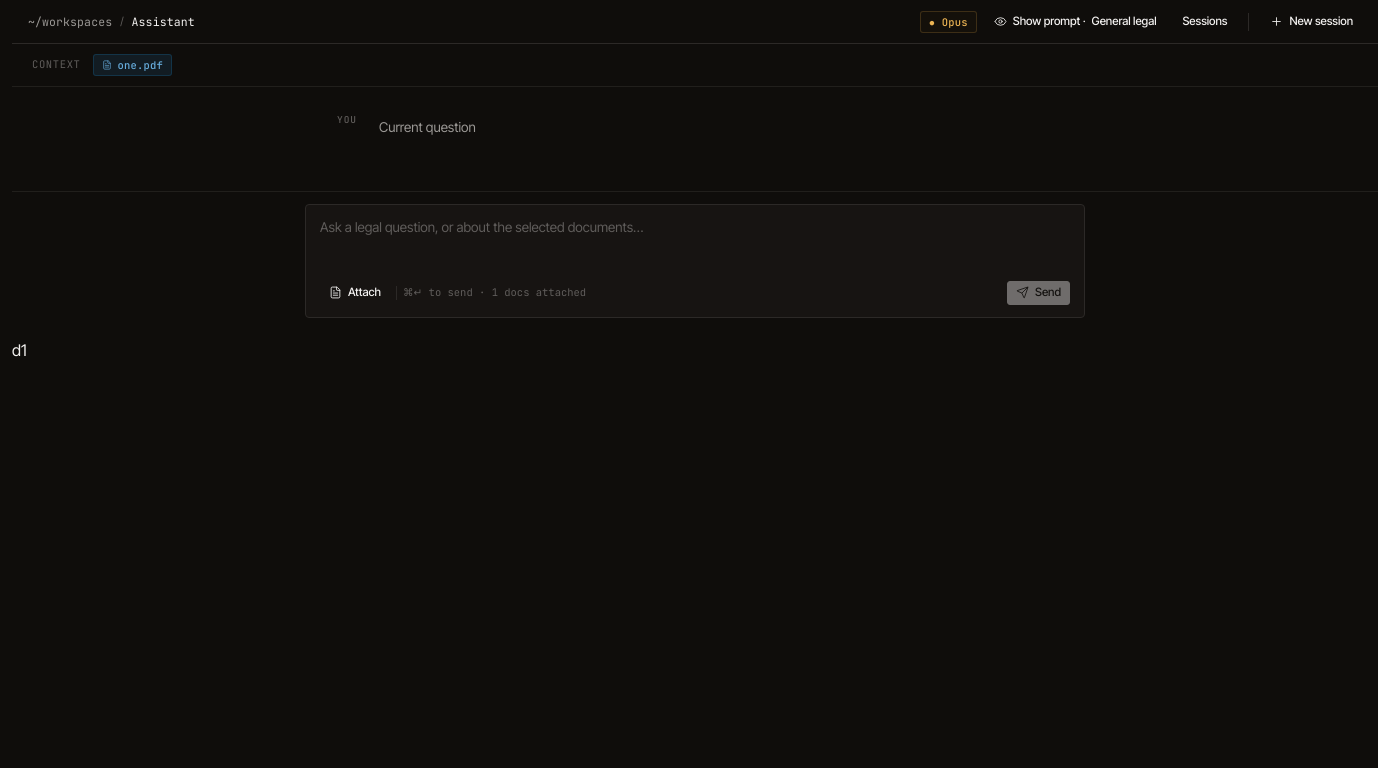
it: Assistant session management › keeps messages, draft, and selection on a failed switch and shows the error
The width and height of the screenshot is (1378, 768).
Type "Keep this" into the text box.
click(695, 243); type("Keep this")  # box 320,217 -> 1070,269
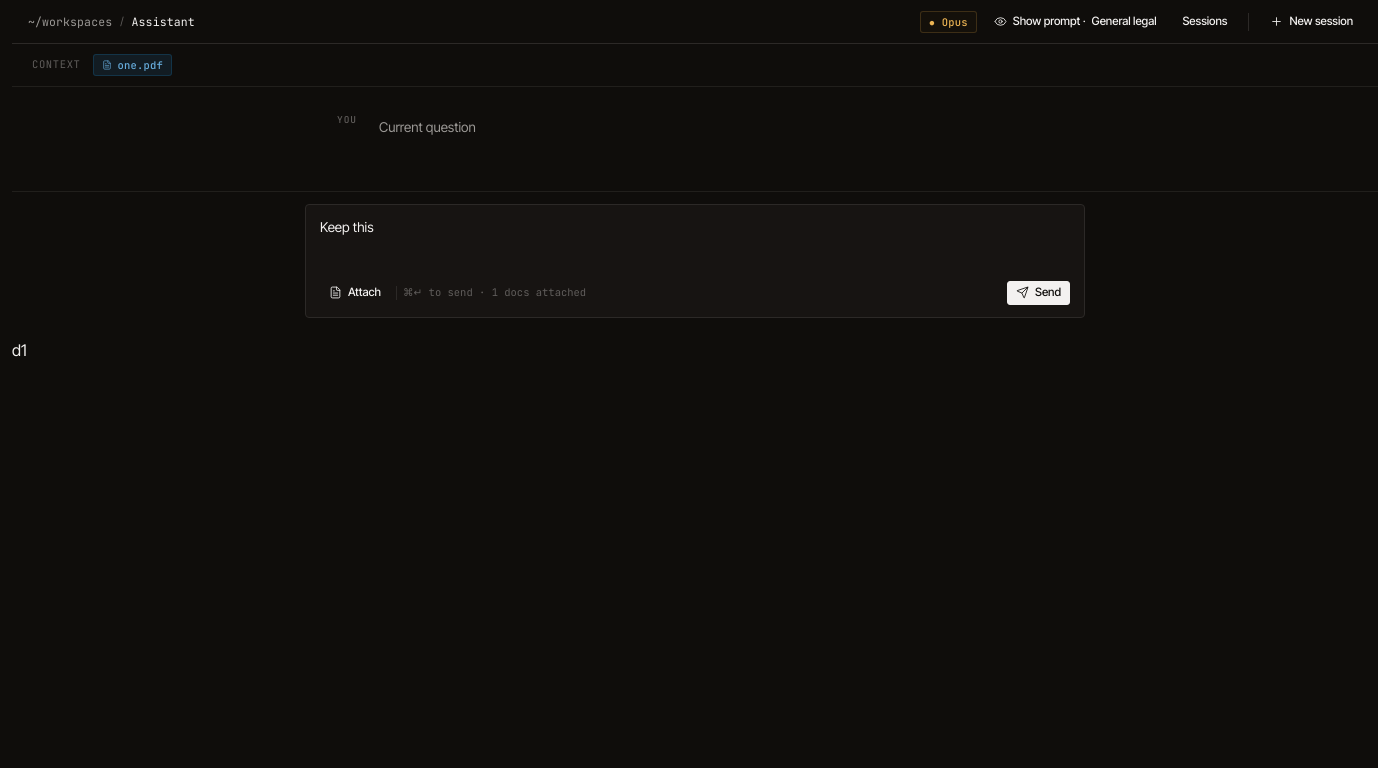
Click the button "Sessions".
click(1205, 22)  # box 1174,10 -> 1236,34
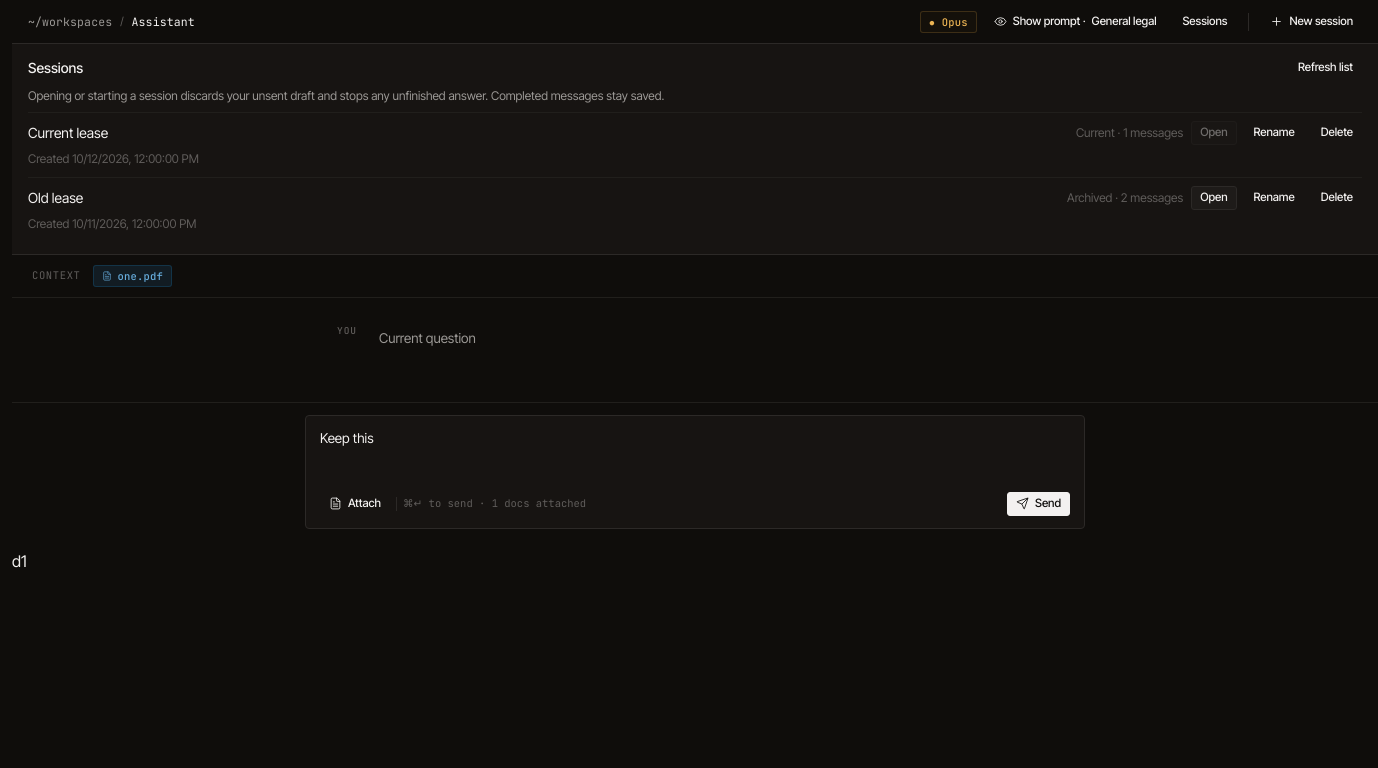
Now the button with aria-label "Open Old lease" is shown
Click the button with aria-label "Open Old lease".
click(1214, 198)  # box 1191,186 -> 1236,210
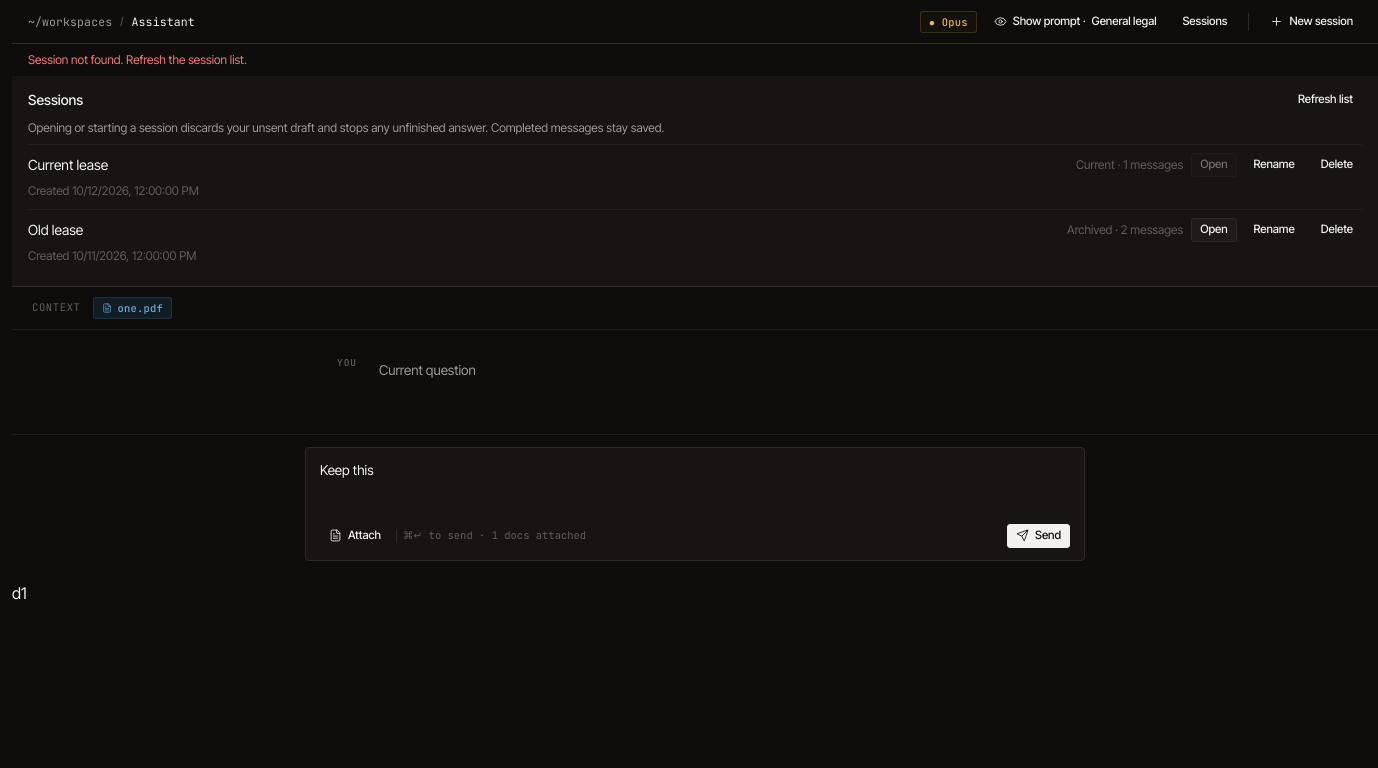
Expected: the text "Current question" is shown, 379,362 -> 476,378
Now the message shows "Session not found", box 28,52 -> 247,67
